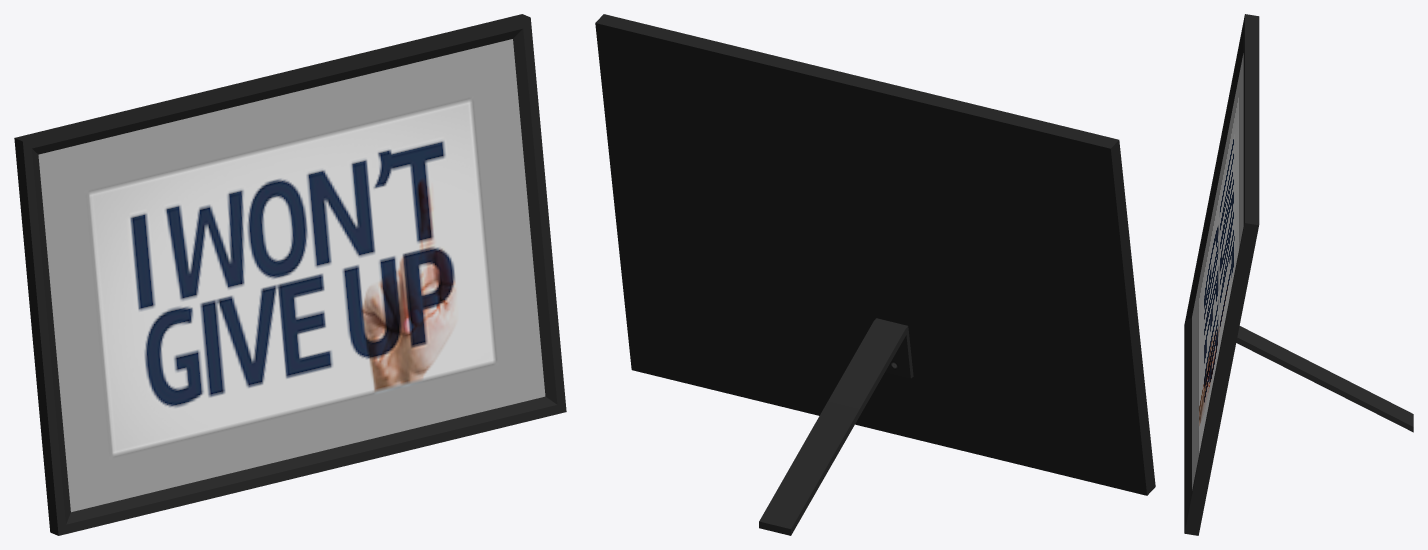
File: photo frame1.FBX
3 views of the same model, side by side, from view 1: azimuth 30°, elevation 25°; view 2: azimuth 150°, elevation 25°; view 3: azimuth 270°, elevation 25° (orthographic). The views are drawn at different scales.
Parts seen in each view (by area): view 1: photo frame1; view 2: photo frame1; view 3: photo frame1.
Part boxes in pixels (x1,y1,x2,y2): photo frame1: (14, 14, 566, 535); photo frame1: (595, 14, 1155, 535); photo frame1: (1184, 14, 1413, 535).
Bounding box in the file's own units: 10.71 × 4.96 × 7.49.
Materials: 1 (1 with a texture image).
